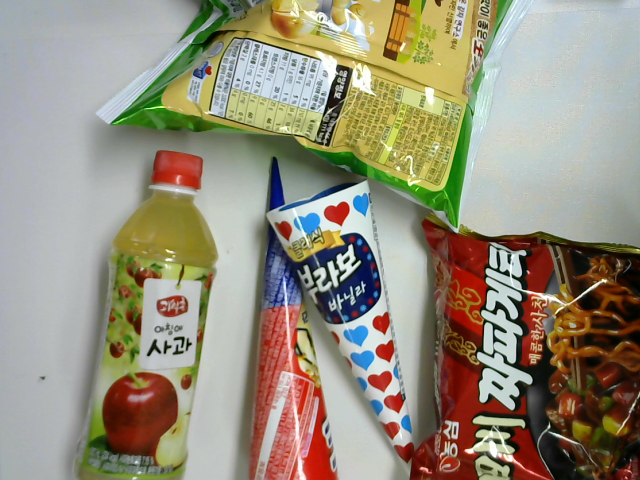Bravo_Cone_(Banila)_CVS: (258, 175, 427, 480)
Morning_Apple_500ml: (60, 148, 220, 480)
Pocachip_Onion: (82, 1, 540, 235)
Sichuan_Chapaghetti: (404, 207, 640, 478)
World_Cone_Banila: (235, 153, 349, 480)
